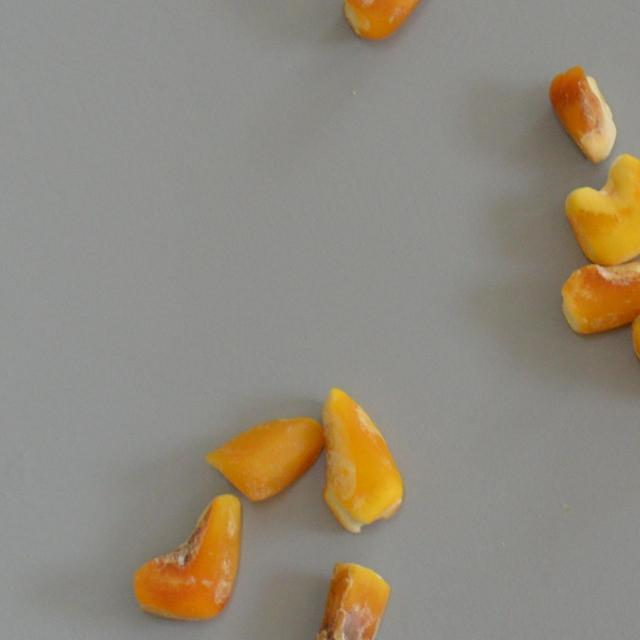dañado: (132, 491, 248, 628), (309, 558, 391, 640), (550, 66, 618, 164), (558, 254, 640, 335)
pelicula: (320, 384, 408, 536), (560, 153, 640, 264), (338, 0, 440, 44)
